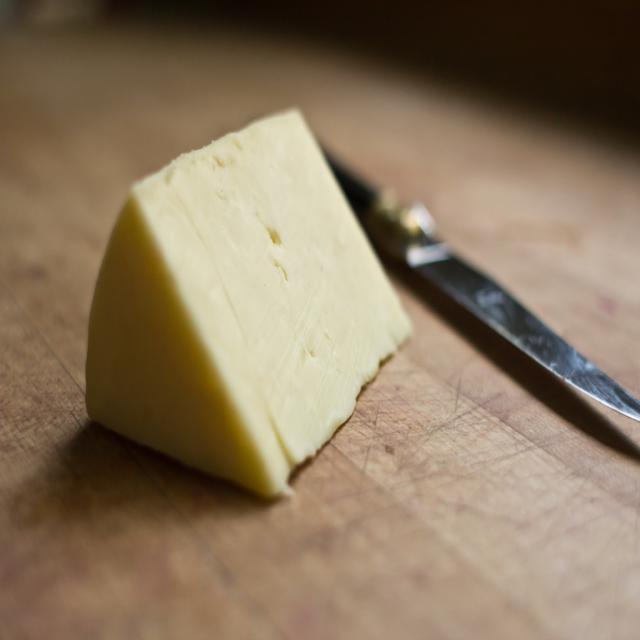Knife: (328, 157, 640, 421)
